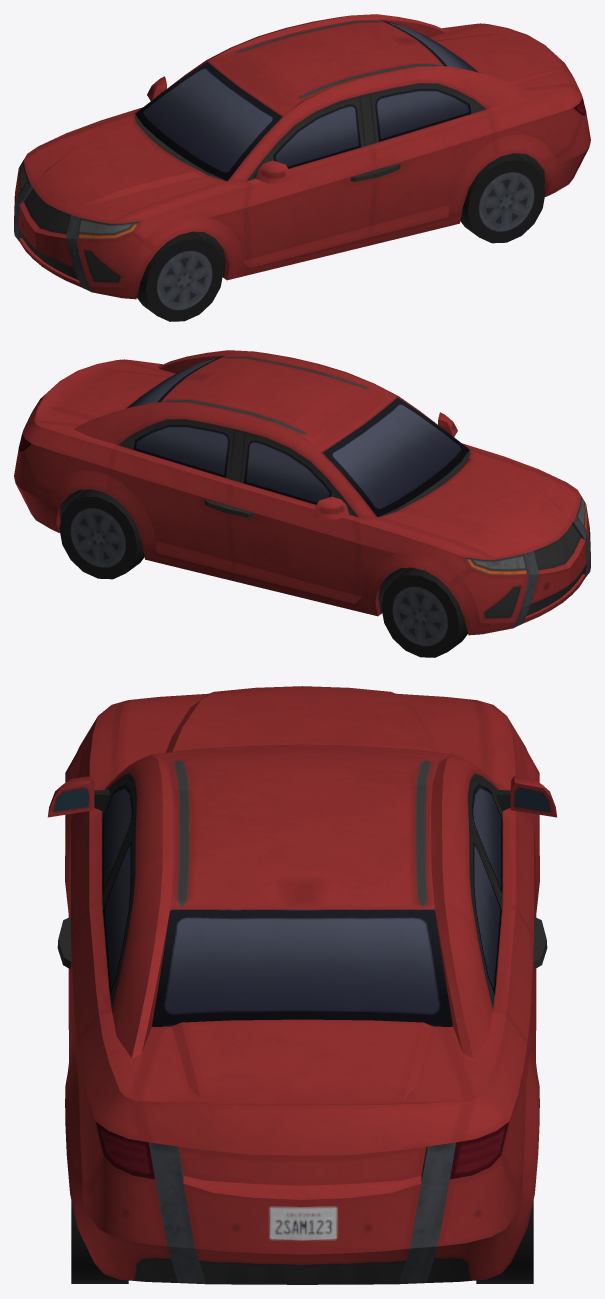
The model's file is Car1.fbx.
3 renders of one model, top to bottom at view 1: azimuth 30°, elevation 25°; view 2: azimuth 150°, elevation 25°; view 3: azimuth 270°, elevation 25°, orthographic. The views are drawn at different scales.
Parts seen in each view (by area): view 1: Car1; view 2: Car1; view 3: Car1.
Boxes of the visible parts, x1=… form: Car1: x1=14, y1=14, x2=590, y2=321; Car1: x1=14, y1=350, x2=590, y2=657; Car1: x1=47, y1=686, x2=557, y2=1284.
Size of the model in its own units: 440 by 141 by 184.
